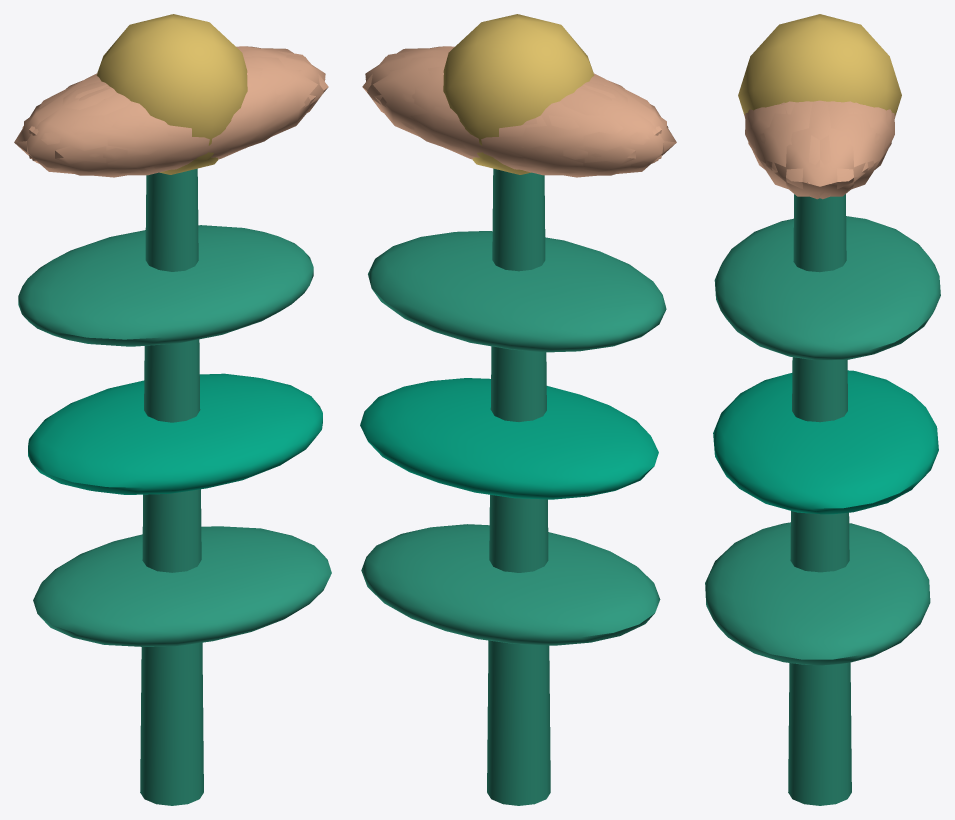
File: ageratum-houstonianum.glb
3 views of the same model, side by side, from view 1: azimuth 30°, elevation 25°; view 2: azimuth 150°, elevation 25°; view 3: azimuth 270°, elevation 25° (orthographic).
Visible parts, largest first — view 1: leaf2, leaf0, leaf1, stem, center, petal6, petal2, petal1, petal5, petal7, petal0; view 2: leaf2, leaf1, leaf0, stem, center, petal3, petal7, petal8, petal4, petal2, petal0; view 3: leaf1, leaf2, leaf0, stem, center, petal0, petal5, petal4, petal1, petal8.
Boxes of the visible parts, <box> form: leaf2: <box>18,225,313,346</box>; leaf0: <box>33,526,331,646</box>; leaf1: <box>28,373,322,494</box>; stem: <box>140,168,203,805</box>; center: <box>96,14,247,174</box>; petal6: <box>32,87,233,175</box>; petal2: <box>24,81,178,177</box>; petal1: <box>103,65,310,173</box>; petal5: <box>167,55,328,165</box>; petal7: <box>14,76,116,168</box>; petal0: <box>241,48,325,148</box>; leaf2: <box>368,231,666,352</box>; leaf1: <box>360,378,658,499</box>; leaf0: <box>361,524,660,645</box>; stem: <box>487,168,550,805</box>; center: <box>443,14,594,174</box>; petal3: <box>457,87,658,175</box>; petal7: <box>512,81,666,177</box>; petal8: <box>380,65,587,173</box>; petal4: <box>362,55,523,165</box>; petal2: <box>574,76,676,168</box>; petal0: <box>365,48,449,148</box>; leaf1: <box>713,370,938,514</box>; leaf2: <box>714,216,940,360</box>; leaf0: <box>705,522,930,665</box>; stem: <box>788,194,851,805</box>; center: <box>738,14,901,115</box>; petal0: <box>759,100,880,196</box>; petal5: <box>748,101,832,199</box>; petal4: <box>807,101,891,199</box>; petal1: <box>745,101,796,170</box>; petal8: <box>843,101,894,170</box>.
Bounding box in the file's own units: 0.1541 × 0.3737 × 0.1035.
